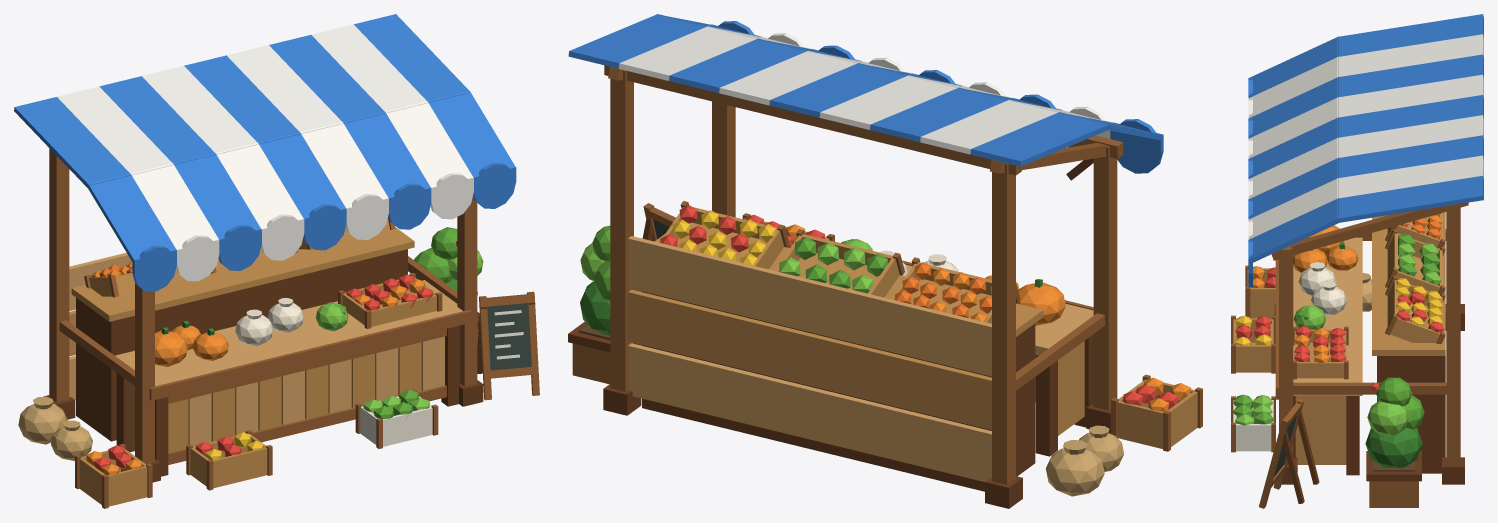
The model's file is shop.glb.
3 renders of one model, left to right at view 1: azimuth 30°, elevation 25°; view 2: azimuth 150°, elevation 25°; view 3: azimuth 270°, elevation 25°, orthographic. The views are drawn at different scales.
Parts seen in each view (by area): view 1: Awning, Counter, Goods, Frame, Sign; view 2: Frame, Awning, Goods, Counter, Sign; view 3: Awning, Goods, Counter, Frame, Sign.
Part boxes in pixels (x1,y1,x2,y2): Awning: (14, 14, 516, 291); Counter: (71, 227, 471, 476); Goods: (18, 217, 483, 508); Frame: (43, 148, 483, 482); Sign: (477, 291, 539, 400); Frame: (603, 65, 1123, 508); Awning: (568, 14, 1163, 173); Goods: (568, 201, 1202, 496); Counter: (642, 234, 1093, 491); Sign: (642, 203, 675, 241); Awning: (1248, 14, 1483, 287); Goods: (1231, 213, 1445, 507); Counter: (1275, 212, 1445, 475); Frame: (1271, 202, 1468, 484); Sign: (1259, 398, 1319, 508).
Size of the model in its own units: 5.36 by 3.44 by 2.64.
